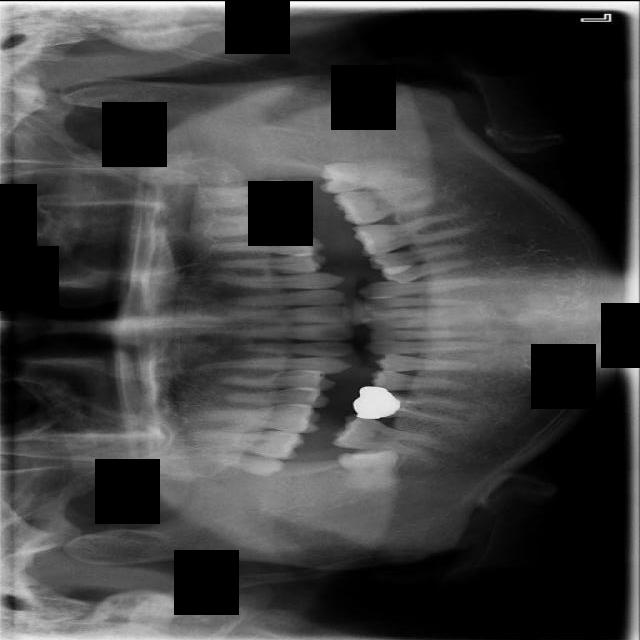3M ESPE Implant: (189, 441, 286, 480)
52: (350, 383, 403, 419)
73: (389, 389, 472, 428), (572, 21, 576, 27)
BioHorizons Implant: (191, 178, 300, 209)
Biomet 3i Implant: (313, 153, 419, 194)
Blue Sky Bio Implant: (332, 181, 445, 227)
Caries: (182, 429, 303, 459)
Implant: (330, 411, 448, 461)
Keystone Dental Implant: (336, 446, 401, 497)
